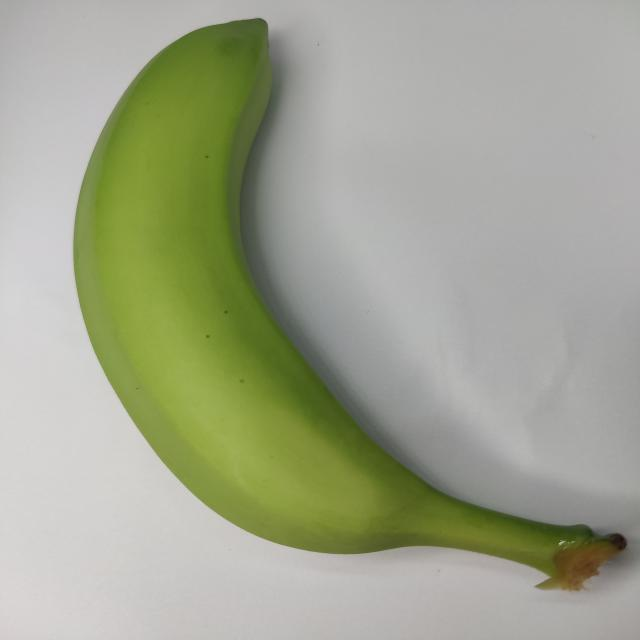raw: (58, 4, 636, 618)
